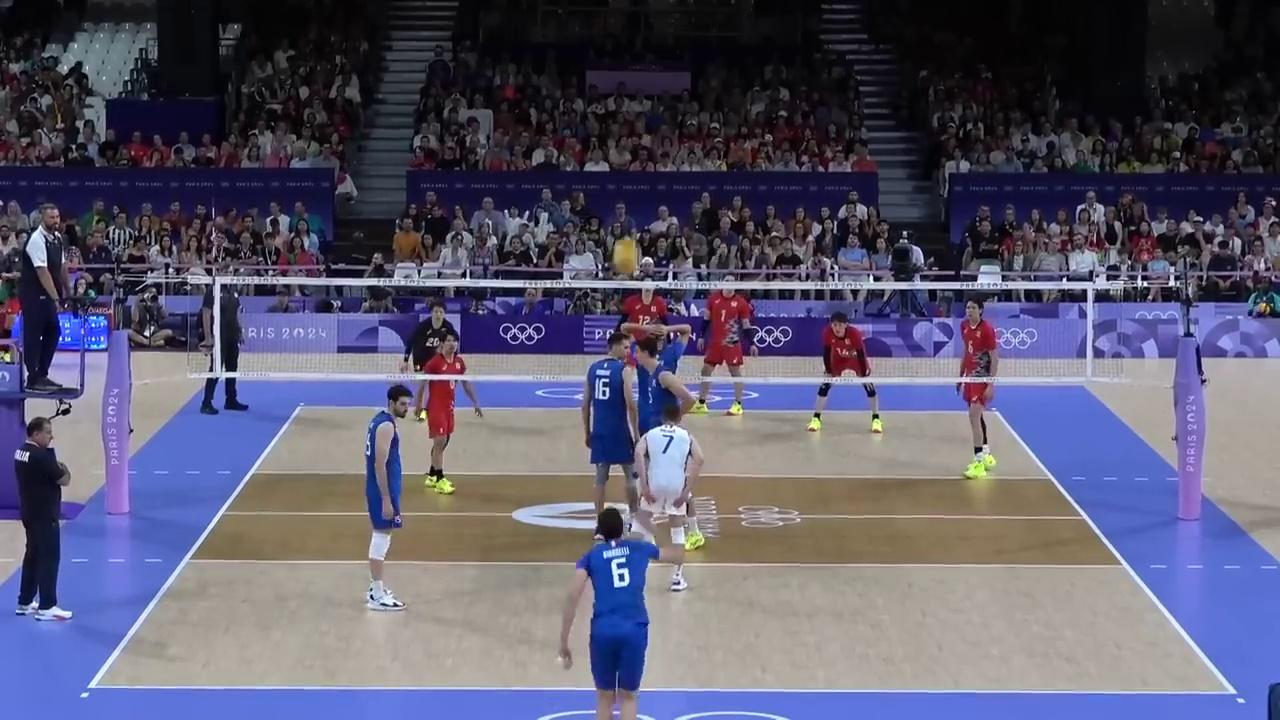ball: (616, 239, 638, 276)
